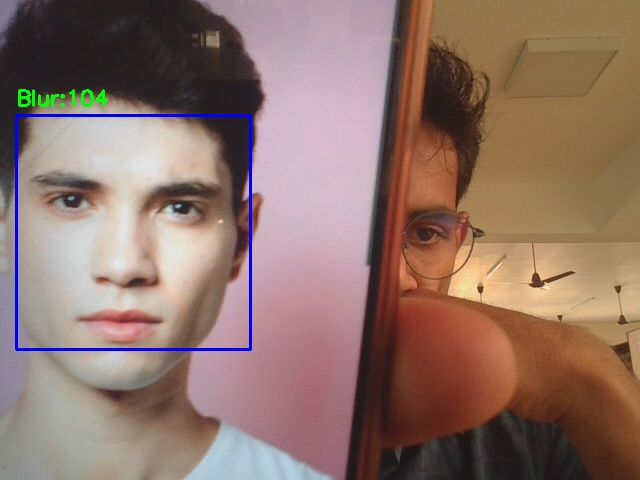fake: (16, 115, 250, 349)
